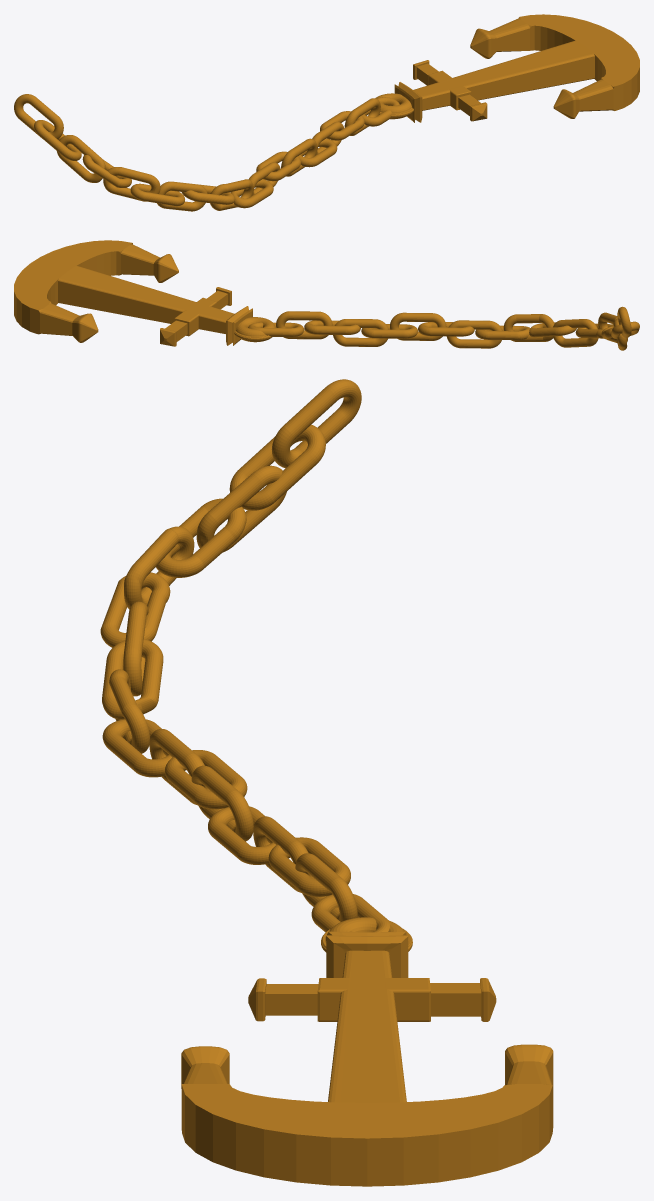
Rendered from anker_mit_kette.glb.
The picture shows the model from 3 angles, top to bottom: view 1: azimuth 30°, elevation 25°; view 2: azimuth 150°, elevation 25°; view 3: azimuth 270°, elevation 25°; orthographic projection. The views are drawn at different scales.
Parts seen in each view (by area): view 1: Cylinder.022; view 2: Cylinder.022; view 3: Cylinder.022.
Boxes of the visible parts, x1,y1,x2,y2 form: Cylinder.022: (14,14,639,211); Cylinder.022: (14,240,639,350); Cylinder.022: (100,379,553,1186).
Bounding box in the file's own units: 93.12 × 17.51 × 30.63.
